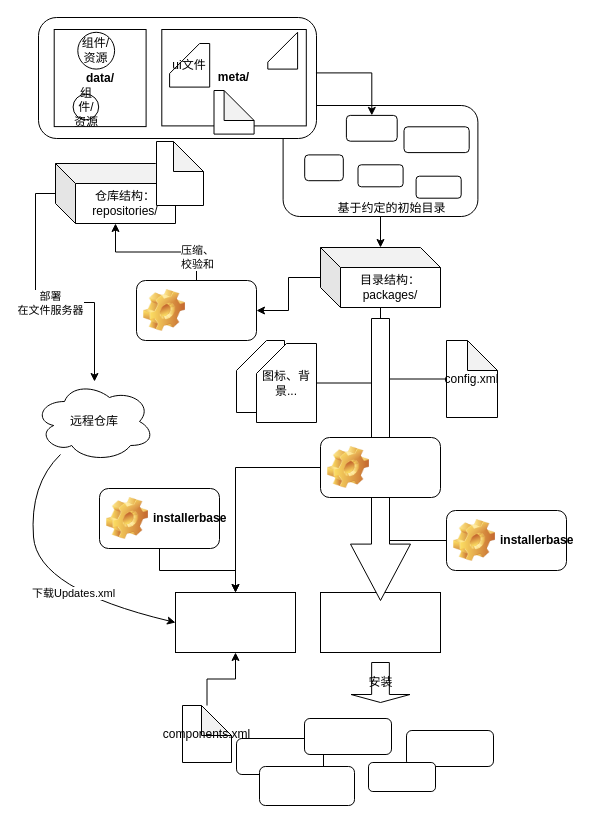
The diagram is 591 pixels wide and 823 high, and some of its shapes have lost their labels. Each missing label, with the centre of its shape:
maintenancetool: point (235, 622)
package.xml: point (233, 112)
qs脚本: point (282, 50)
Updates.xml: point (180, 173)
安装包程序: point (380, 622)
工具 binarycreator: point (380, 467)
工具 repogen: point (196, 310)
